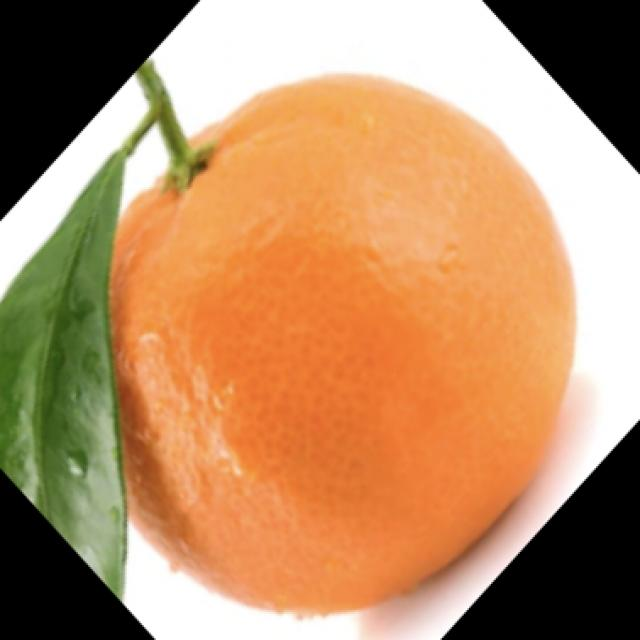fresh: (0, 17, 579, 638)
